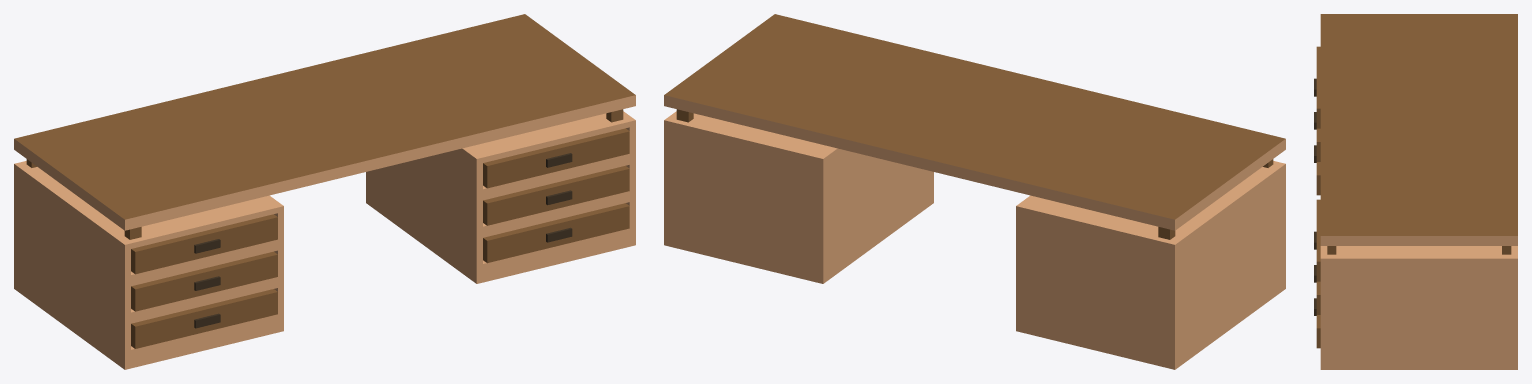
The model's file is Office  .fbx.
The picture shows the model from 3 angles, left to right: view 1: azimuth 30°, elevation 25°; view 2: azimuth 150°, elevation 25°; view 3: azimuth 270°, elevation 25°; orthographic projection. The views are drawn at different scales.
Parts seen in each view (by area): view 1: Office; view 2: Office; view 3: Office.
Boxes of the visible parts, box(x1,y1,x2,y2) form: Office: box(14, 14, 635, 369); Office: box(664, 14, 1285, 369); Office: box(1314, 14, 1517, 369).
Bounding box in the file's own units: 286 × 80.28 × 111.
